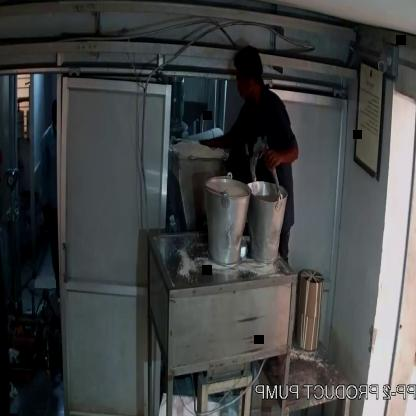no_glove: (263, 137, 304, 180)
